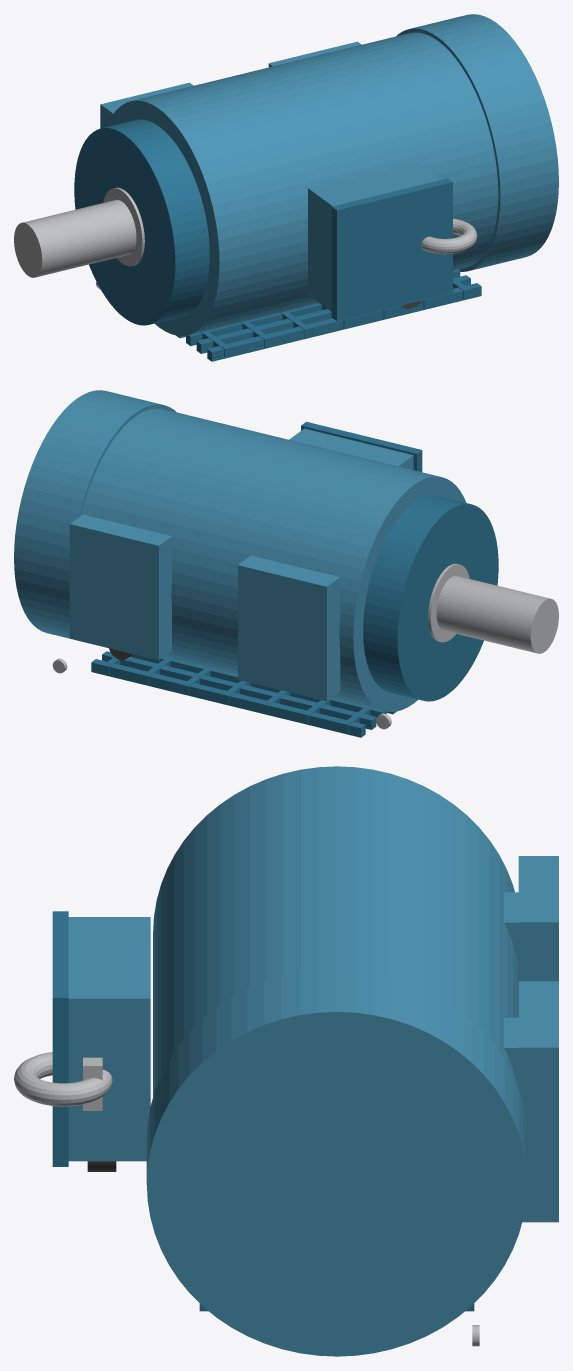
File: motor_matching_2d.glb
The picture shows the model from 3 angles, top to bottom: view 1: azimuth 30°, elevation 25°; view 2: azimuth 150°, elevation 25°; view 3: azimuth 270°, elevation 25°; orthographic projection. The views are drawn at different scales.
Visible parts, largest first — view 1: Main_Body, Front_Housing, Fan_Cover, Terminal_Box_Top, Shaft, Terminal_Box, Cooling_Fin_9, Cooling_Fin_8, Lifting_Eye, Shaft_Collar, Cooling_Fin_7, Mounting_Foot_Front (+1 smaller); view 2: Main_Body, Front_Housing, Fan_Cover, Mounting_Foot_Back, Mounting_Foot_Front, Shaft, Cooling_Fin_1, Cooling_Fin_2, Terminal_Box, Cooling_Fin_3, Terminal_Box_Top, Shaft_Collar; view 3: Fan_Cover, Main_Body, Terminal_Box, Mounting_Foot_Back, Mounting_Foot_Front, Terminal_Box_Top, Lifting_Eye, Foot_Riser_Front, Foot_Riser_Back.
Part boxes in pixels (x1,y1,x2,y2): Main_Body: [106, 32, 498, 335]; Front_Housing: [74, 119, 209, 325]; Fan_Cover: [396, 14, 558, 271]; Terminal_Box_Top: [331, 178, 452, 321]; Shaft: [14, 199, 136, 277]; Terminal_Box: [308, 161, 441, 311]; Cooling_Fin_9: [207, 283, 481, 361]; Cooling_Fin_8: [196, 275, 470, 353]; Lifting_Eye: [421, 218, 477, 254]; Shaft_Collar: [103, 187, 144, 266]; Cooling_Fin_7: [186, 269, 460, 346]; Mounting_Foot_Front: [100, 82, 193, 128]; Main_Body: [81, 408, 466, 711]; Front_Housing: [363, 495, 498, 701]; Fan_Cover: [14, 390, 176, 638]; Mounting_Foot_Back: [69, 514, 171, 660]; Mounting_Foot_Front: [238, 555, 340, 701]; Shaft: [436, 575, 558, 653]; Cooling_Fin_1: [91, 659, 365, 737]; Cooling_Fin_2: [102, 651, 376, 729]; Terminal_Box: [289, 428, 413, 469]; Cooling_Fin_3: [131, 654, 386, 717]; Terminal_Box_Top: [301, 421, 422, 471]; Shaft_Collar: [428, 563, 469, 642]; Fan_Cover: [146, 968, 526, 1356]; Main_Body: [153, 766, 518, 1096]; Terminal_Box: [68, 917, 150, 1161]; Mounting_Foot_Back: [518, 981, 558, 1222]; Mounting_Foot_Front: [518, 856, 558, 981]; Terminal_Box_Top: [52, 911, 68, 1166]; Lifting_Eye: [14, 1052, 112, 1106]; Foot_Riser_Front: [504, 892, 518, 965]; Foot_Riser_Back: [504, 1017, 518, 1088].
Bounding box in the file's own units: 9.2 × 4.37 × 6.07.
